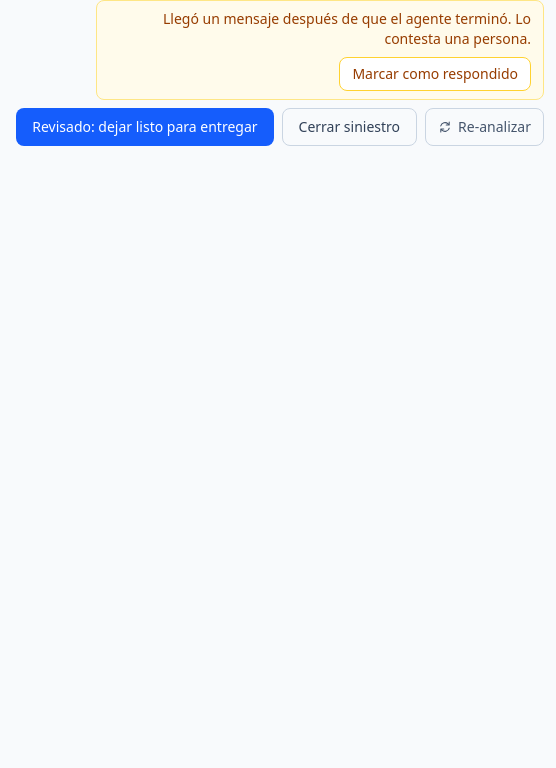
«Para responder» en el detalle › en es-AR, con actualizado=true, manda cuándo lo vio y avisa «Marcado como respondido.»
Click the button "Marcar como respondido" at [435, 74], box [339,57,531,91]
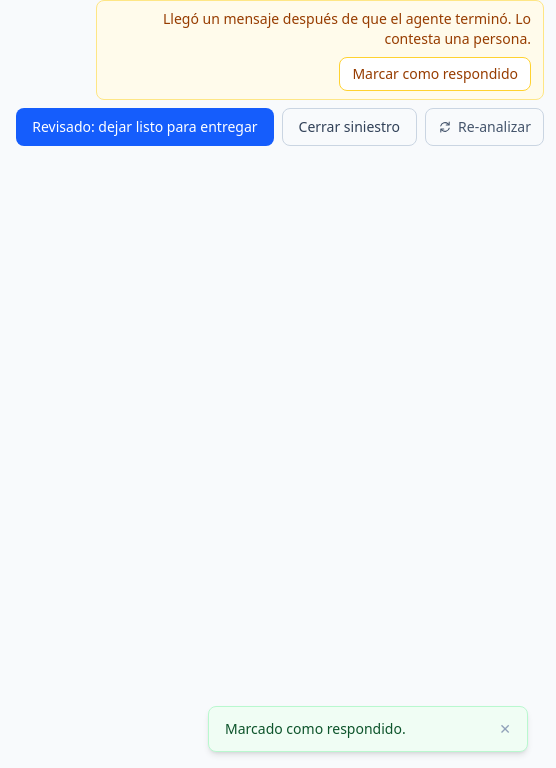
Expected: the text "Marcado como respondido." is shown, [225,719,406,739]
